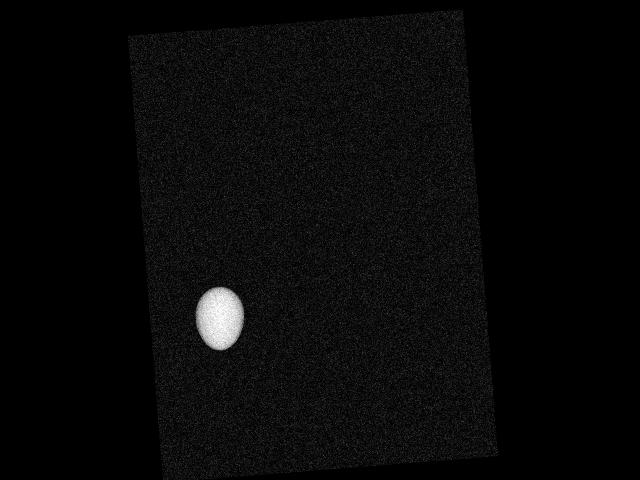egg: (193, 285, 246, 351)
